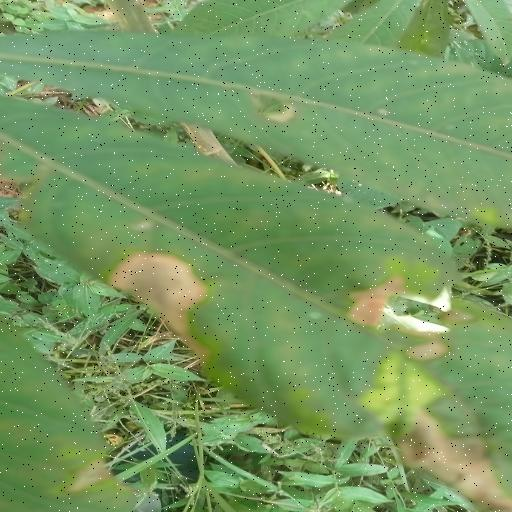Cassava_Brown_Leaf_Spot: (0, 24, 512, 510)
